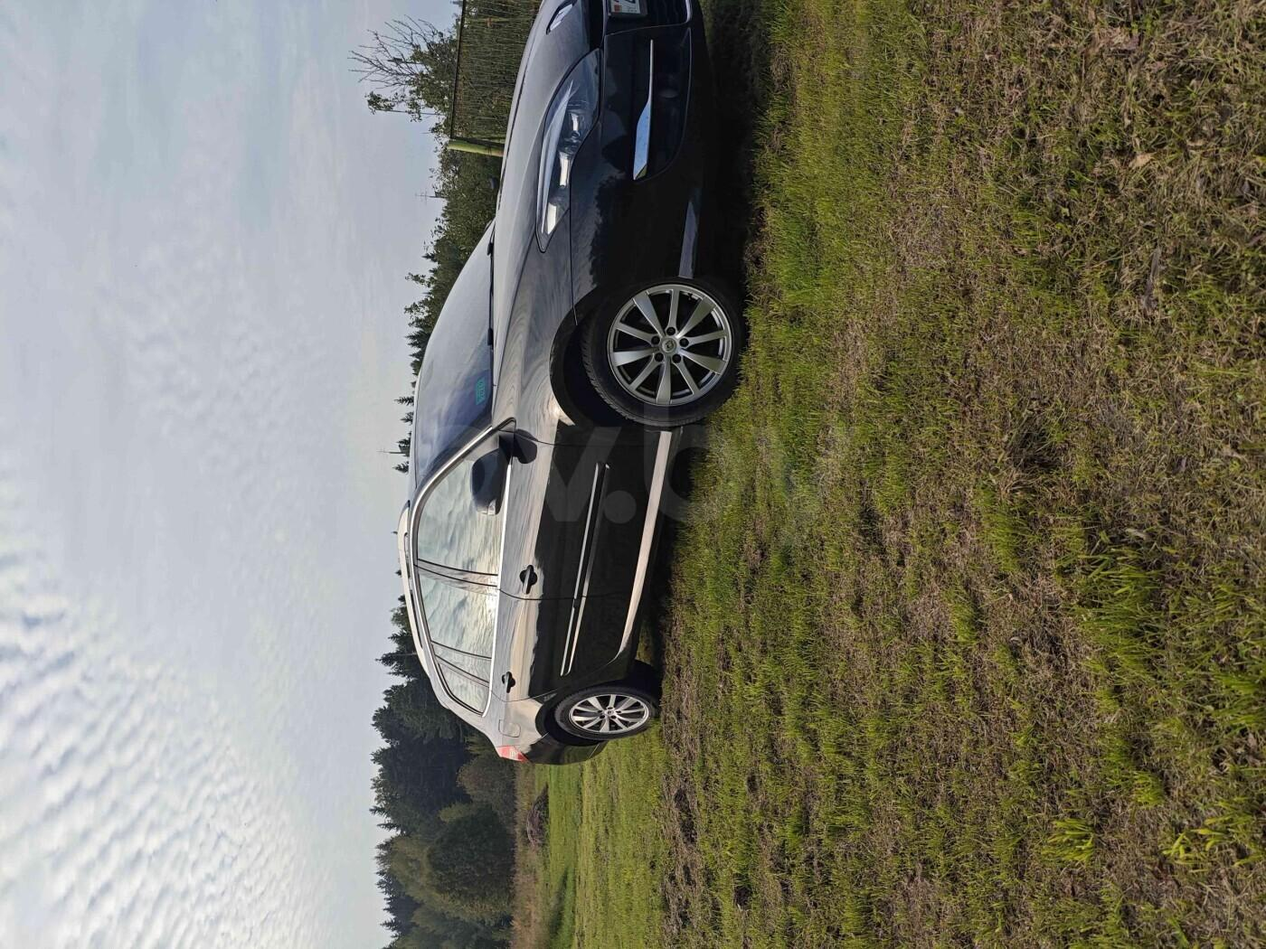Laguna_2010-2015: (375, 0, 798, 784)
